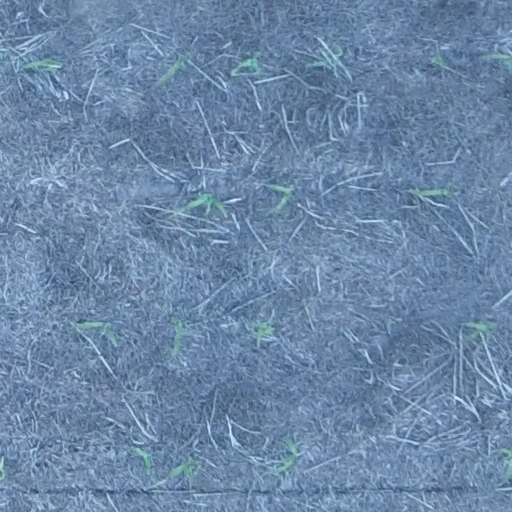planta: (183, 191, 229, 216), (76, 320, 118, 345), (270, 439, 297, 474), (160, 54, 188, 82), (461, 320, 493, 343), (407, 181, 452, 197), (270, 182, 293, 211), (130, 446, 152, 476), (167, 459, 197, 481), (234, 50, 262, 73), (21, 57, 61, 73), (170, 314, 184, 356), (250, 321, 274, 340), (429, 54, 445, 68)
